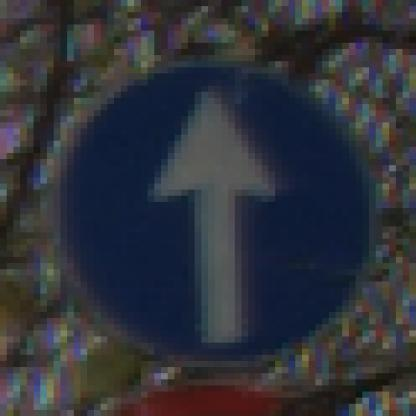AheadOnly: (35, 38, 384, 380)
